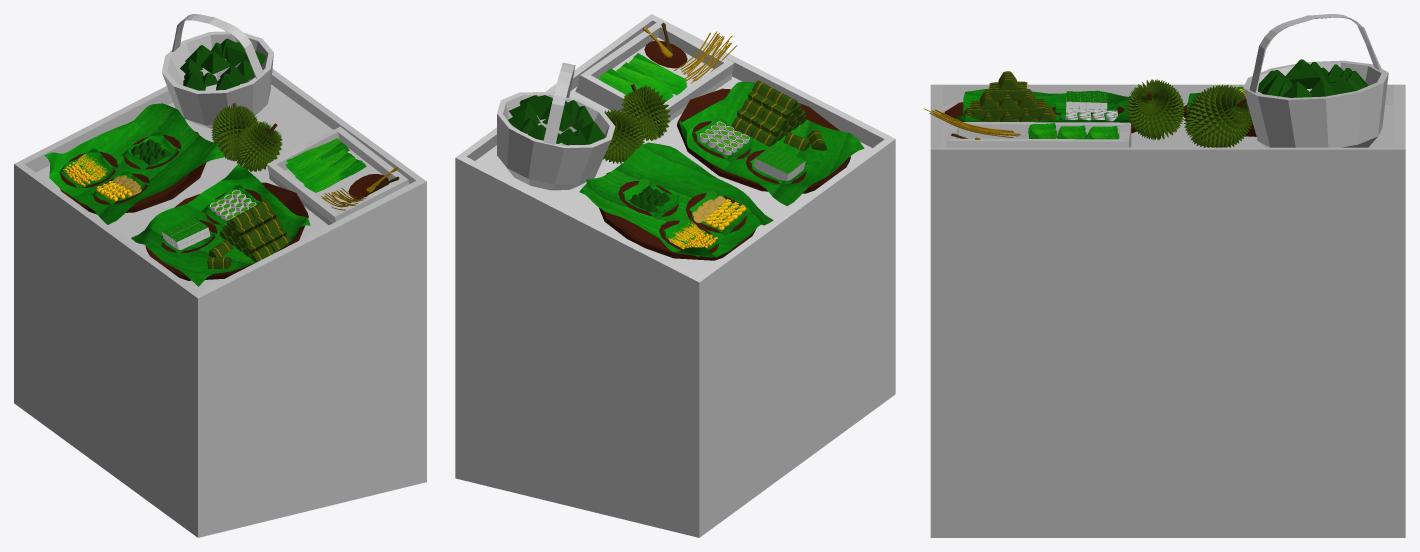
File: ร้านยาย.fbx
The picture shows the model from 3 angles, left to right: view 1: azimuth 30°, elevation 25°; view 2: azimuth 150°, elevation 25°; view 3: azimuth 270°, elevation 25°; orthographic projection. The views are drawn at different scales.
Visible parts, largest first — view 1: Cube, Plane.001, Cylinder.002, Plane, Cube.001, Plane.007, Cube.012, Sphere.001, Sphere, Cylinder, Cylinder.001, Cube.004 (+9 smaller); view 2: Cube, Plane.001, Cylinder.002, Plane, Cube.001, Plane.007, Cube.012, Cylinder, Sphere.001, Cylinder.001, Sphere, Cube.004 (+14 smaller); view 3: Cube, Cylinder.002, Sphere, Cube.001, Sphere.001, Cube.012, Plane, Plane.007, Cube.004, Cube.008, Cube.009, Cube.018 (+1 smaller).
Part boxes in pixels (<box>): Cube: <box>14,69,426,537</box>; Plane.001: <box>44,103,224,224</box>; Cylinder.002: <box>162,14,273,128</box>; Plane: <box>131,164,310,286</box>; Cube.001: <box>267,126,409,224</box>; Plane.007: <box>285,138,366,192</box>; Cube.012: <box>180,38,266,90</box>; Sphere.001: <box>233,121,282,171</box>; Sphere: <box>211,103,258,161</box>; Cylinder: <box>145,182,308,280</box>; Cylinder.001: <box>60,131,206,214</box>; Cube.004: <box>161,216,210,249</box>; Cube: <box>455,14,895,537</box>; Plane.001: <box>579,142,773,257</box>; Cylinder.002: <box>497,62,615,190</box>; Plane: <box>679,81,864,205</box>; Cube.001: <box>575,21,734,120</box>; Plane.007: <box>598,53,687,101</box>; Cube.012: <box>508,95,605,145</box>; Cylinder: <box>677,88,850,193</box>; Sphere.001: <box>620,84,670,140</box>; Cylinder.001: <box>599,172,755,260</box>; Sphere: <box>603,109,644,163</box>; Cube.004: <box>753,145,805,180</box>; Cube: <box>930,84,1405,537</box>; Cylinder.002: <box>1243,14,1388,147</box>; Sphere: <box>1184,84,1252,147</box>; Cube.001: <box>946,122,1131,147</box>; Sphere.001: <box>1126,79,1185,140</box>; Cube.012: <box>1258,59,1368,97</box>; Plane: <box>956,88,1130,122</box>; Plane.007: <box>1028,123,1119,139</box>; Cube.004: <box>1066,91,1107,112</box>; Cube.008: <box>969,99,1045,119</box>; Cube.009: <box>979,89,1036,109</box>; Cube.018: <box>924,108,1020,137</box>.
Size of the model in its own units: 200 by 310 by 282.
